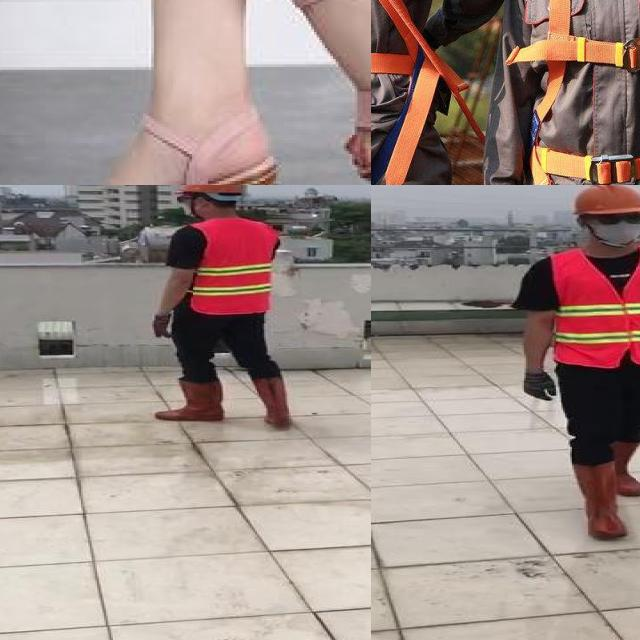Harness: (519, 0, 640, 185), (371, 0, 468, 185)
Sandals: (10, 94, 284, 185), (295, 0, 371, 185)
boots: (570, 463, 631, 542), (158, 380, 228, 420), (250, 377, 292, 426), (609, 438, 640, 497)
face_mask: (588, 208, 640, 244)
glasses: (588, 209, 640, 229)
hand_glove: (522, 373, 562, 402), (152, 313, 172, 337)
head_helmet: (567, 185, 640, 218), (172, 185, 240, 195)
person: (507, 185, 640, 550), (141, 185, 312, 434)
vest: (549, 248, 640, 368), (186, 220, 275, 316)
